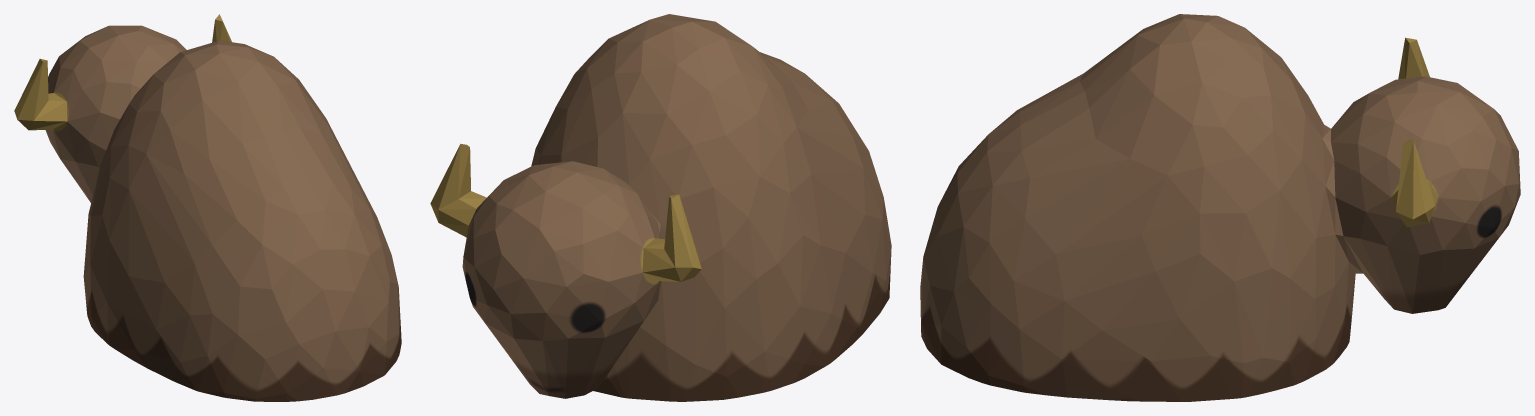
File: animal_bison_blob.obj
3 views of the same model, side by side, from view 1: azimuth 30°, elevation 25°; view 2: azimuth 150°, elevation 25°; view 3: azimuth 270°, elevation 25° (orthographic). The views are drawn at different scales.
Parts seen in each view (by area): view 1: animal_bison_blob; view 2: animal_bison_blob; view 3: animal_bison_blob.
Part boxes in pixels (bbox=[...]): animal_bison_blob: bbox=[14, 14, 401, 401]; animal_bison_blob: bbox=[430, 14, 891, 401]; animal_bison_blob: bbox=[920, 14, 1520, 401].
Size of the model in its own units: 1.09 by 1.12 by 1.96.
